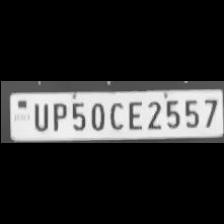0: (87, 99, 105, 130)
2: (142, 98, 162, 130)
5: (66, 99, 86, 131), (180, 96, 200, 128), (162, 97, 180, 129)
7: (201, 96, 219, 128)
C: (105, 98, 123, 130)
E: (124, 98, 142, 130)
P: (48, 100, 66, 132)
U: (28, 100, 48, 132)
